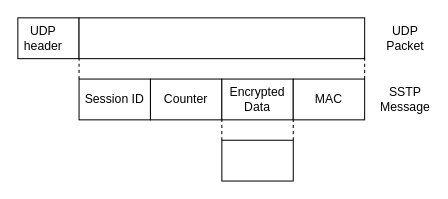
Image size: 448x199. Some labels were removed from this diagram. The shapes that lost their labels are listed below. From the top down, each one's centre as x and y in pixels, then its label:
the point at 221,38: UDP payload
the point at 257,160: Channel Frame
